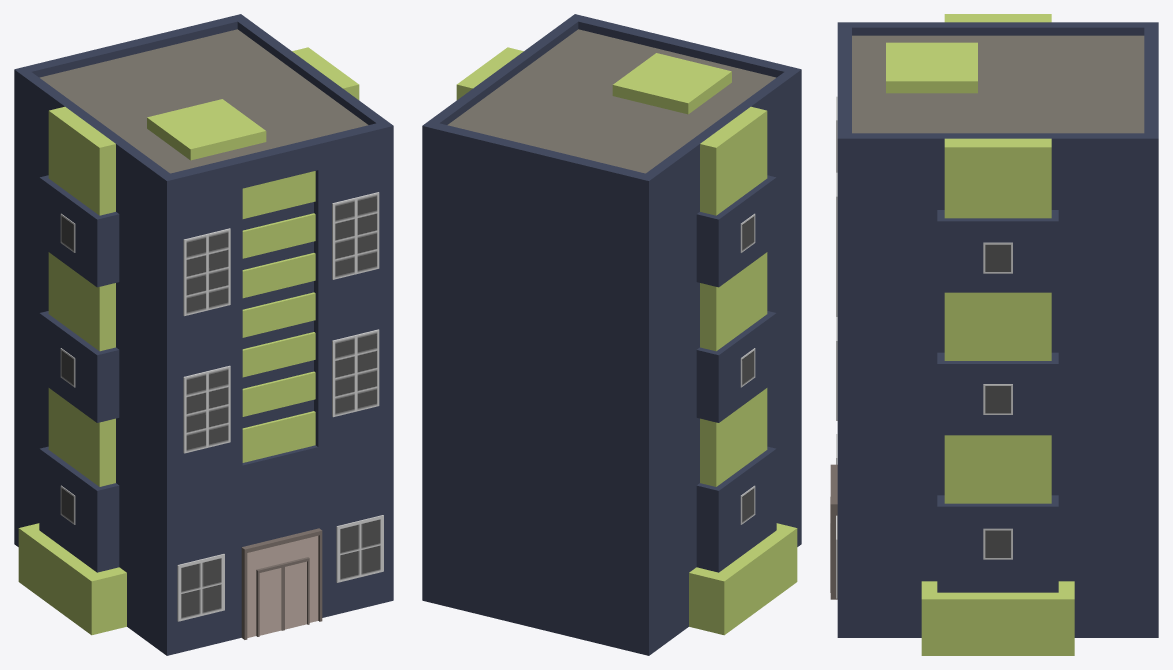
File: building06_color02.fbx
3 views of the same model, side by side, from view 1: azimuth 30°, elevation 25°; view 2: azimuth 150°, elevation 25°; view 3: azimuth 270°, elevation 25° (orthographic). The views are drawn at different scales.
Visible parts, largest first — view 1: building06_color02; view 2: building06_color02; view 3: building06_color02.
Part boxes in pixels (<box>): building06_color02: <box>14,14,393,655</box>; building06_color02: <box>422,14,801,655</box>; building06_color02: <box>830,14,1158,655</box>.
Size of the model in its own units: 949 by 1457 by 863.
